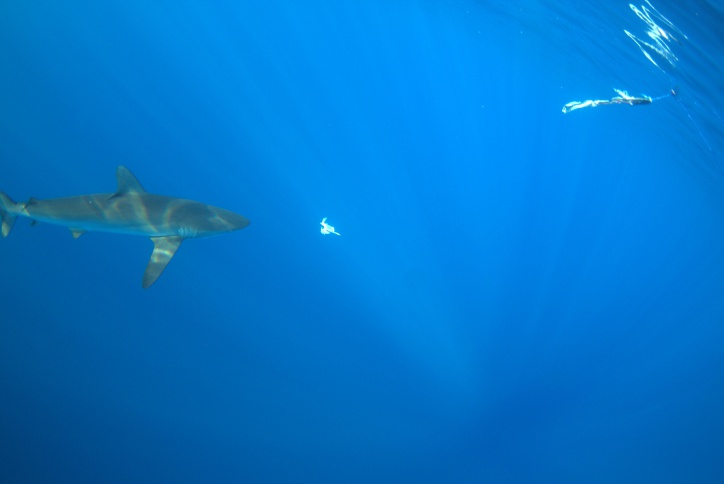Sedoso: (1, 161, 257, 294)
